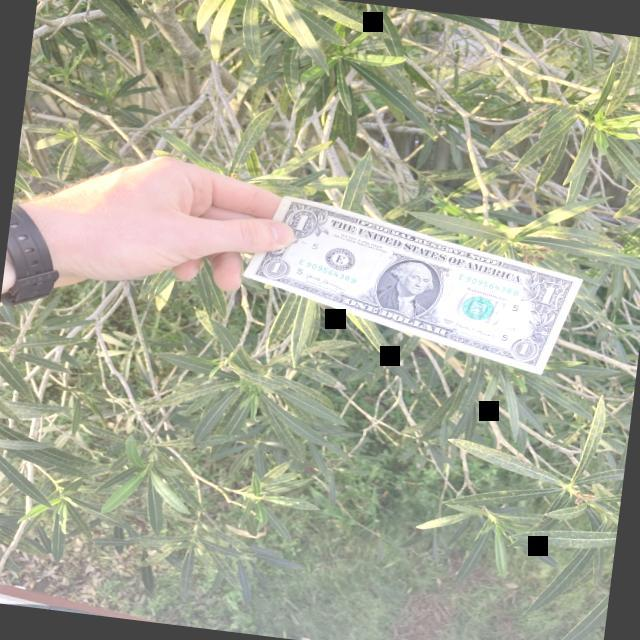one: (242, 195, 582, 375)
